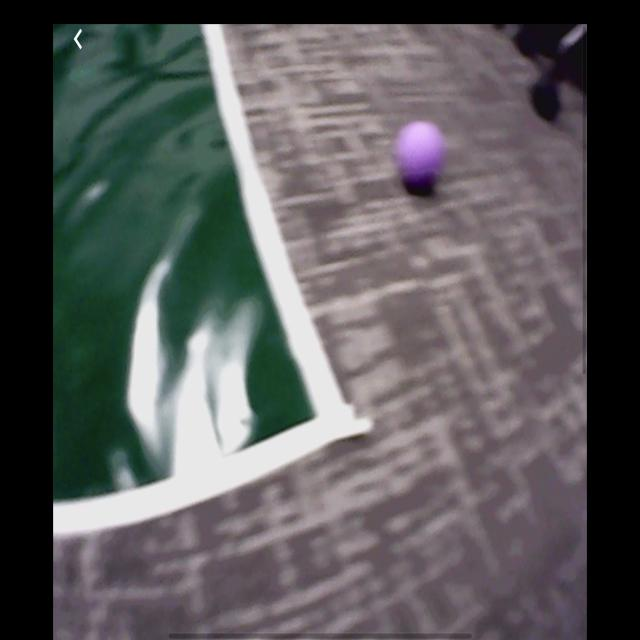ball: (400, 121, 444, 199)
